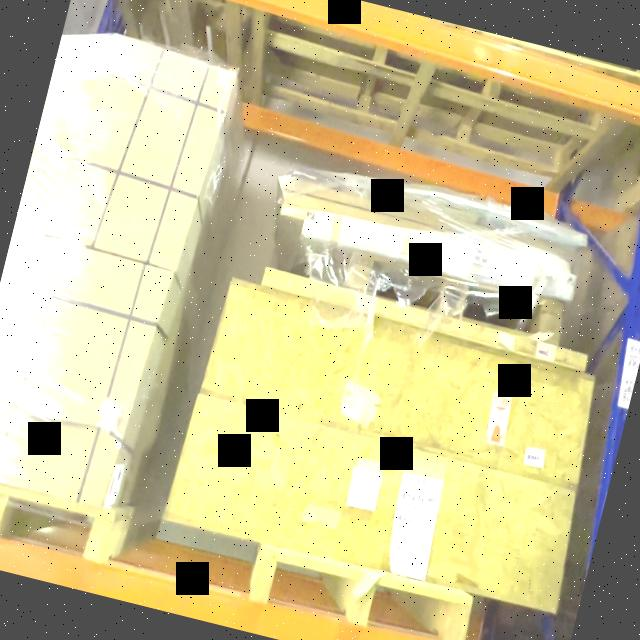box: (166, 396, 574, 611), (202, 284, 597, 484), (0, 238, 162, 505), (52, 38, 226, 268)
